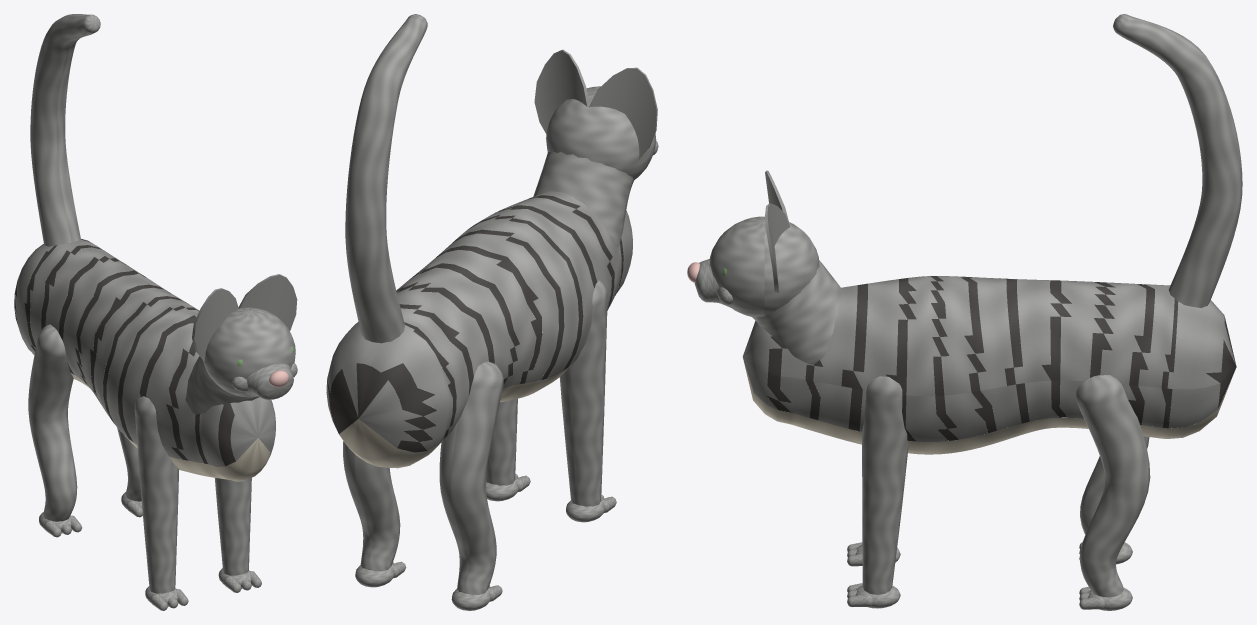
The model's file is cat-tabby.glb.
3 views of the same model, side by side, from view 1: azimuth 30°, elevation 25°; view 2: azimuth 150°, elevation 25°; view 3: azimuth 270°, elevation 25° (orthographic). The views are drawn at different scales.
Visible parts, largest first — view 1: domestic-shorthair; view 2: domestic-shorthair; view 3: domestic-shorthair.
Boxes of the visible parts, x1,y1,x2,y2 form: domestic-shorthair: [14, 14, 297, 610]; domestic-shorthair: [326, 14, 658, 610]; domestic-shorthair: [687, 14, 1242, 610].
Bounding box in the file's own units: 0.1277 × 0.4983 × 0.4395.
6 materials, 3 textured.
